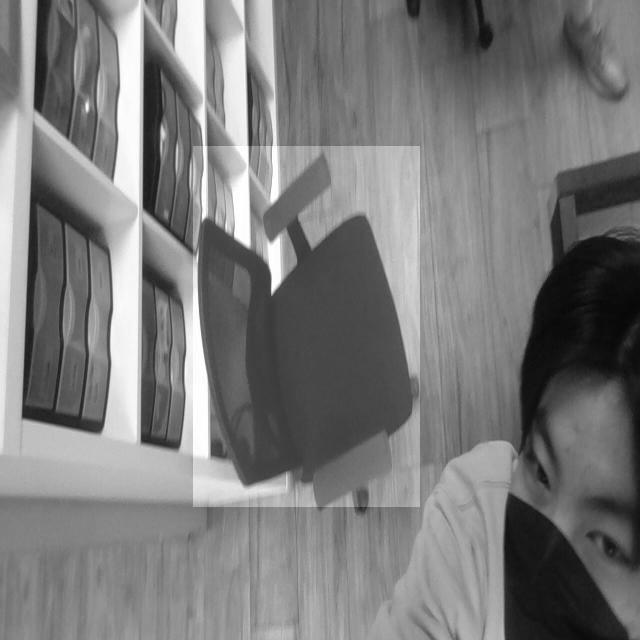chair: (193, 146, 421, 508)
